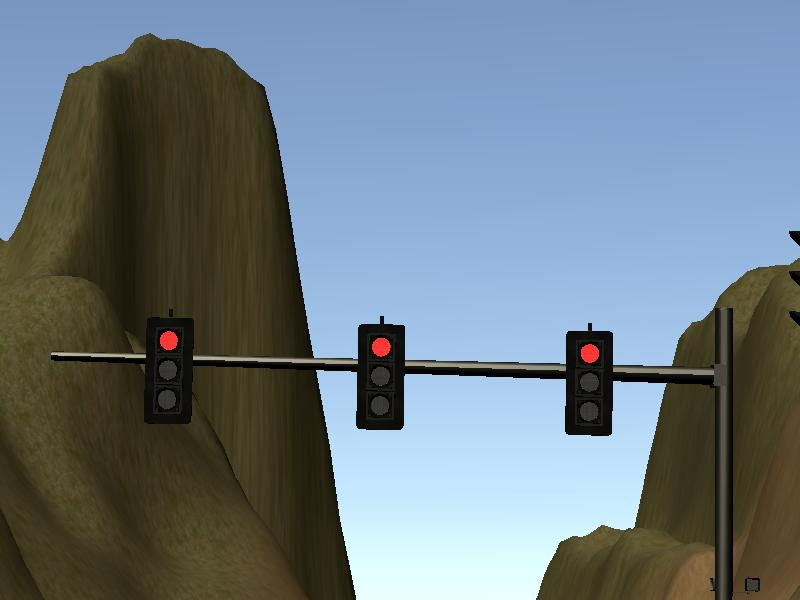red: (141, 312, 199, 430), (352, 321, 411, 434), (562, 326, 618, 440)
